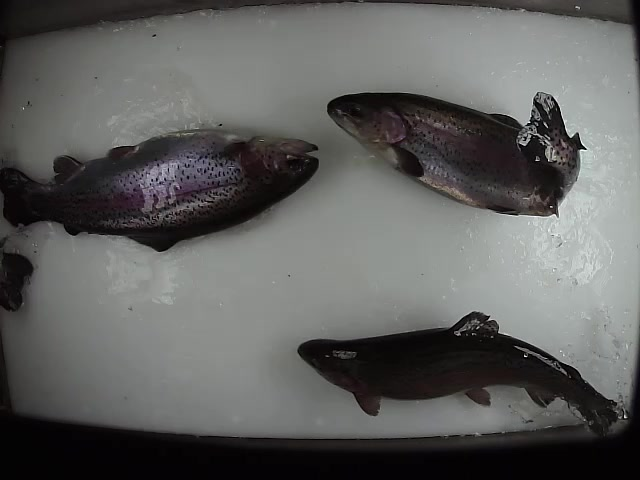fish: (295, 310, 633, 438), (1, 127, 323, 254), (325, 88, 587, 222)
